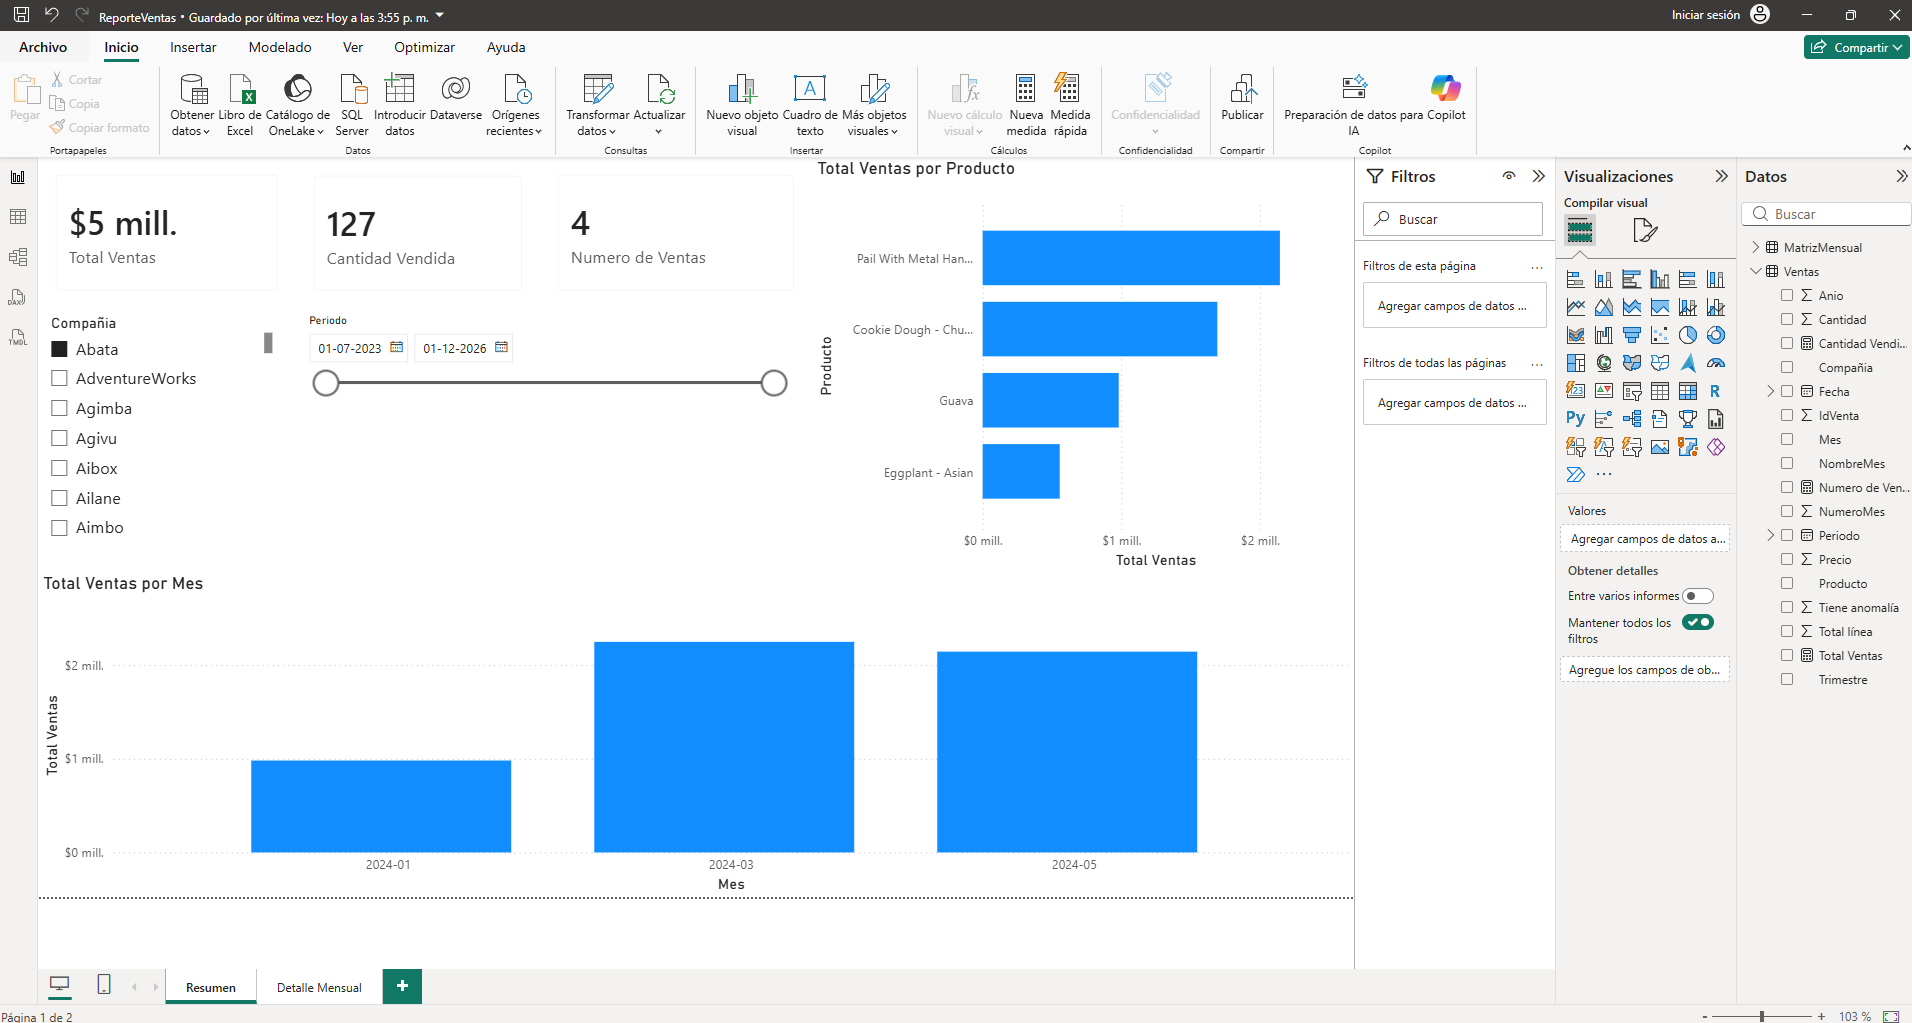

This screenshot's page, from the dashboard's own definition file:
{"tool":"powerbi","page":{"name":"Resumen","canvas":[1280,720],"ordinal":0},"visuals":[{"type":"cardVisual","fields":{"Data":["Ventas.Total Ventas"]},"box":[0,0,250.9,147.8],"z":0},{"type":"cardVisual","fields":{"Data":["Ventas.Cantidad Vendida"]},"box":[250.9,1,237.3,146.9],"z":1000},{"type":"cardVisual","fields":{"Data":["MatrizMensual.Numero de Ventas"]},"box":[488.3,0,264.6,147.8],"z":2000},{"type":"columnChart","fields":{"Category":["Ventas.AnioMes"],"Y":["Ventas.Total Ventas"]},"box":[0,404.6,1280,315.1],"z":3000},{"type":"barChart","fields":{"Category":["Ventas.Producto"],"Y":["Ventas.Total Ventas"]},"box":[752.8,1,527.2,403.6],"z":4000},{"type":"slicer","fields":{"Values":["Ventas.Compania"]},"box":[0,147.8,233.4,233.4],"z":5000},{"type":"slicer","fields":{"Values":["Ventas.Periodo"]},"box":[250.9,147.8,485.3,128.4],"z":6000}]}

Visuals, with their boxes on the page's 1280x720 design canvas (x1, y1, x2, y2). These are canvas units, not pixel positions in the 1912x1023 screenshot, which may show the page scaled, cropped or inside an application window:
cardVisual - Ventas.Total Ventas: crop(0, 0, 251, 148)
cardVisual - Ventas.Cantidad Vendida: crop(251, 1, 488, 148)
cardVisual - MatrizMensual.Numero de Ventas: crop(488, 0, 753, 148)
columnChart - Ventas.AnioMes x Ventas.Total Ventas: crop(0, 405, 1280, 720)
barChart - Ventas.Producto x Ventas.Total Ventas: crop(753, 1, 1280, 405)
slicer - Ventas.Compania: crop(0, 148, 233, 381)
slicer - Ventas.Periodo: crop(251, 148, 736, 276)
